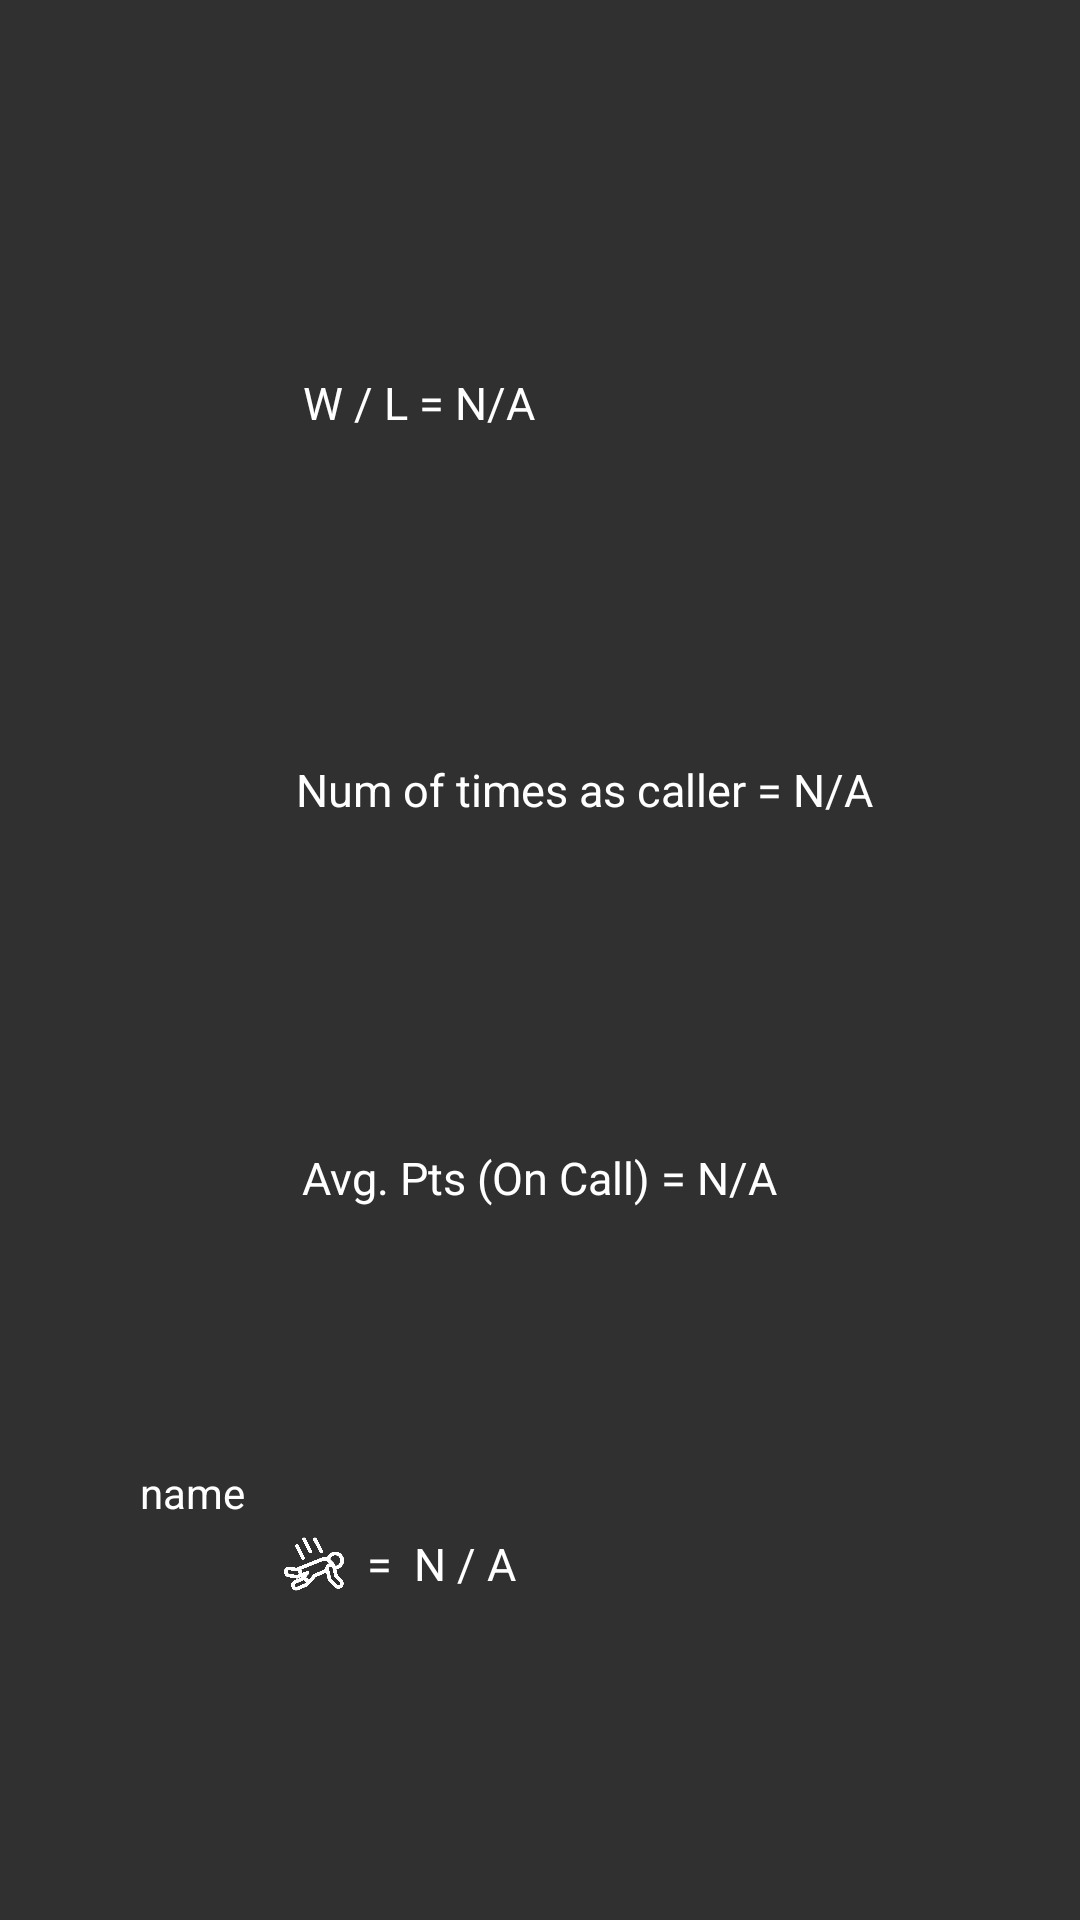

Where icons sit on this 1080w x 1920h app screen, as (x1, y1, x2, y2):
falling downw: (284, 1537, 344, 1591)
